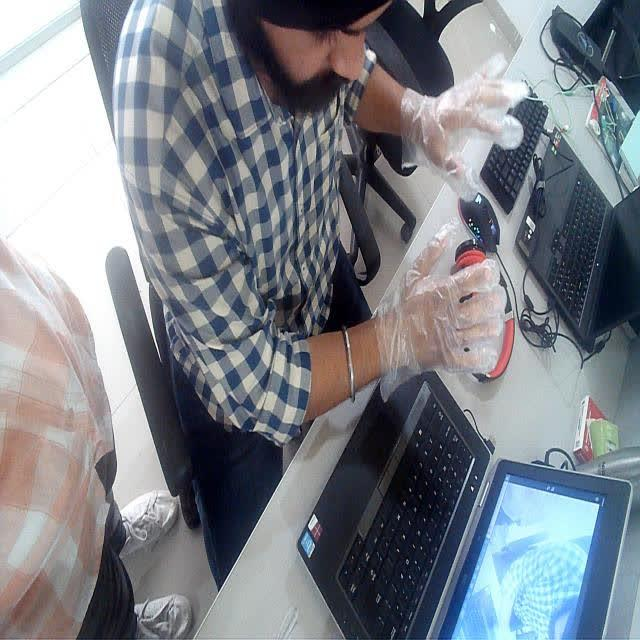with_gloves: (374, 214, 507, 403), (399, 61, 528, 194)
